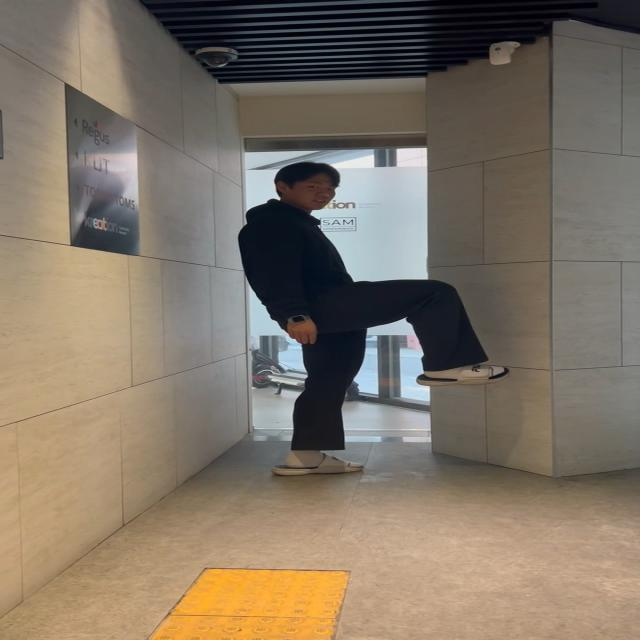knee: (330, 280, 494, 384)
